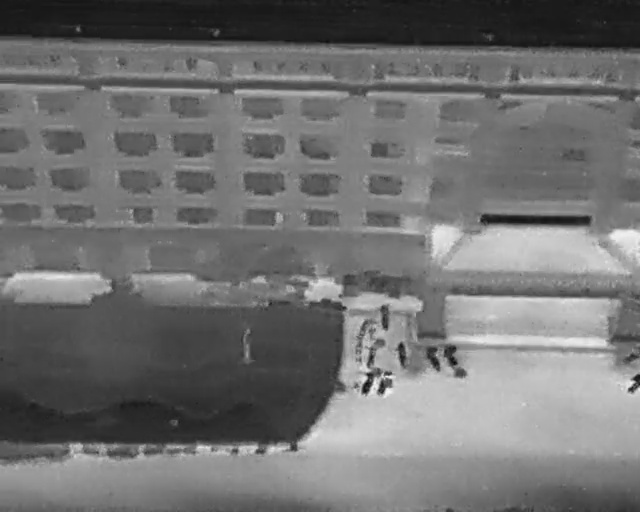Bicycle: (421, 342, 447, 374), (440, 341, 464, 368), (358, 370, 377, 398), (374, 373, 394, 398), (394, 340, 409, 367), (363, 345, 378, 369), (379, 302, 391, 331), (626, 372, 639, 395), (621, 350, 639, 364)
